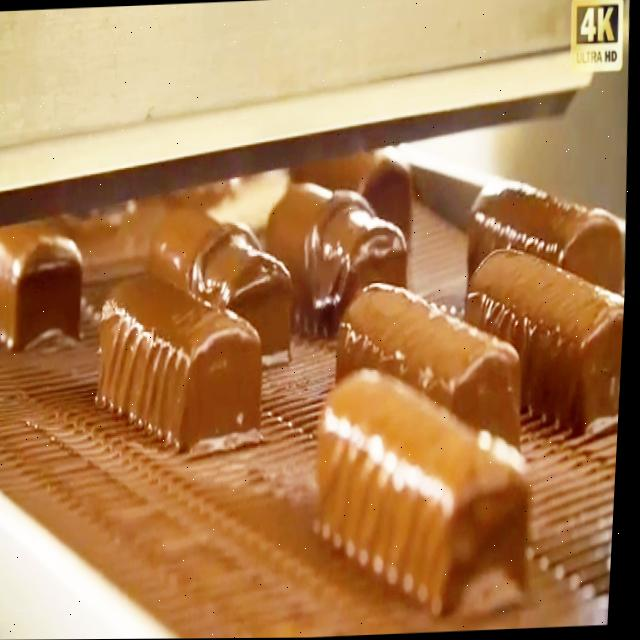Choco: (308, 357, 547, 619), (331, 268, 536, 453), (459, 223, 631, 436), (91, 265, 274, 455), (462, 157, 633, 325), (144, 199, 310, 372), (260, 169, 423, 332), (0, 224, 93, 346)
